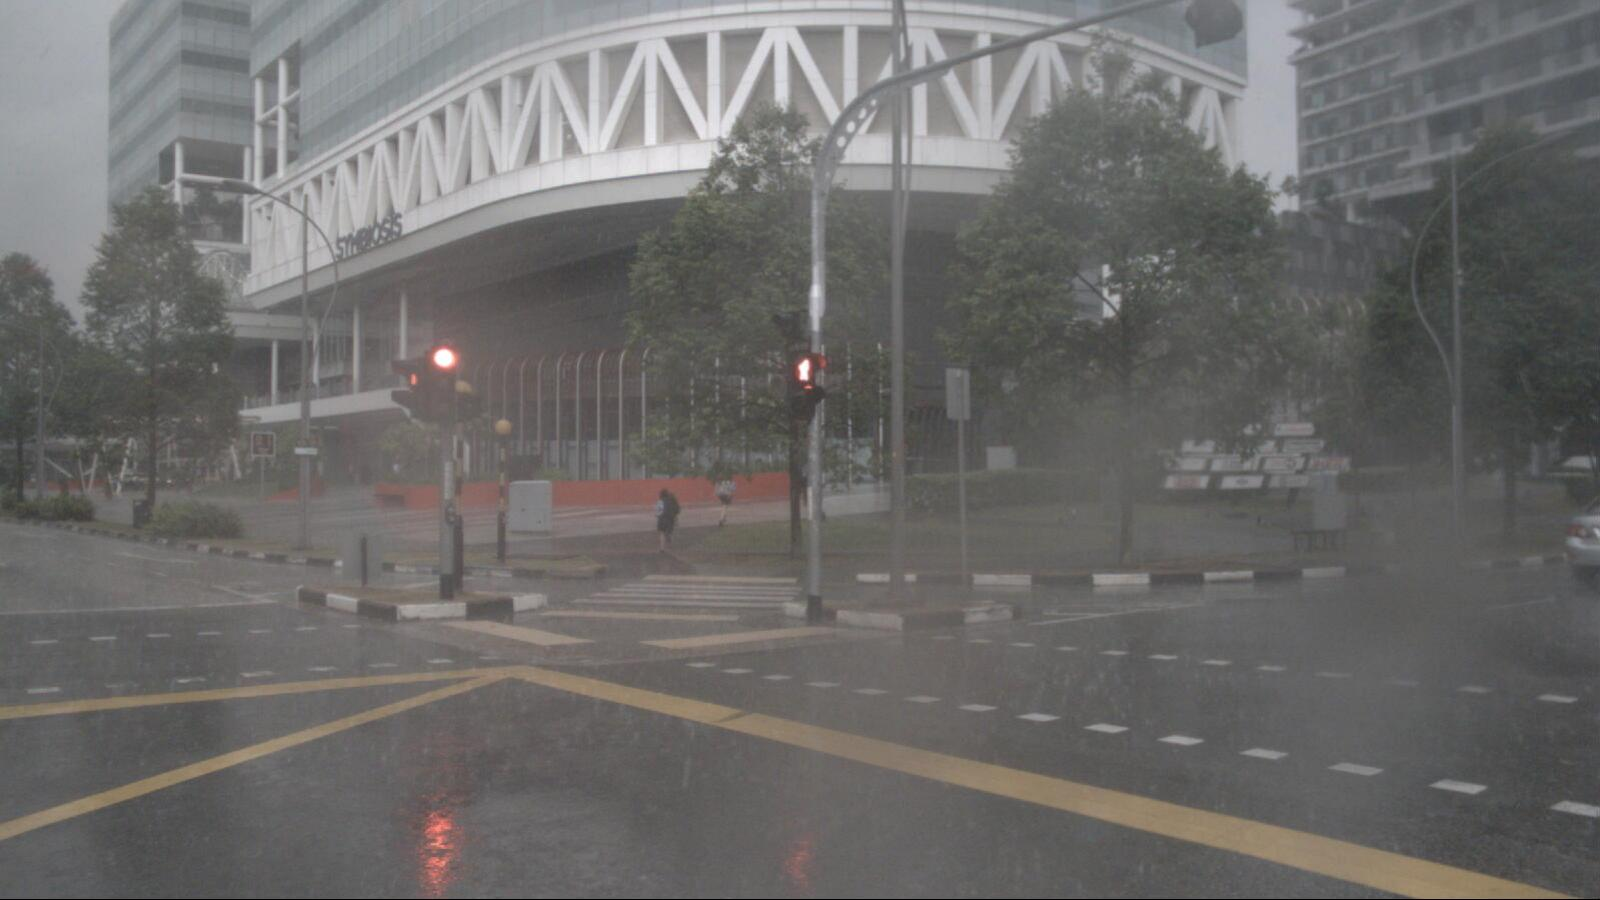human.pedestrian.adult-pedestrian.moving: (654, 488, 680, 555), (714, 471, 736, 528)
